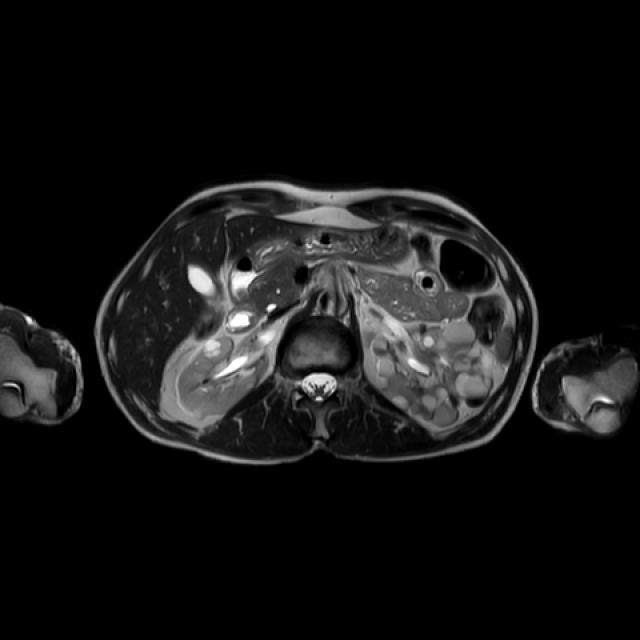sag: (176, 338, 262, 415)
sol: (372, 324, 498, 425)
